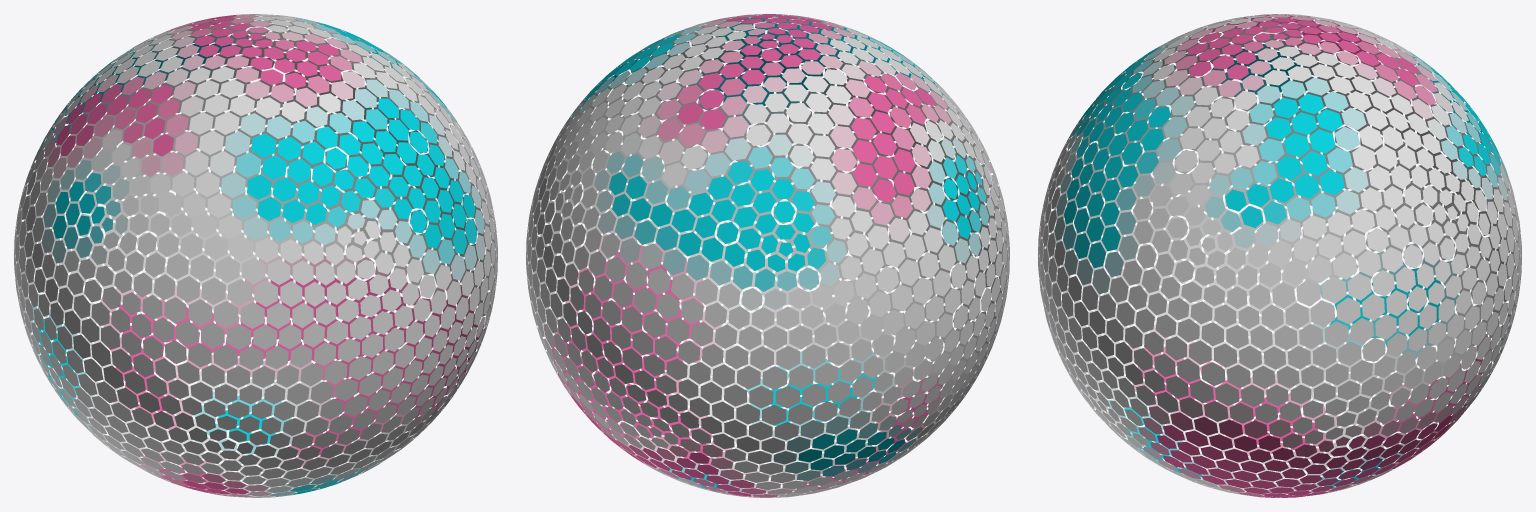
Rendered from mag_ice.fbx.
3 views of the same model, side by side, from view 1: azimuth 30°, elevation 25°; view 2: azimuth 150°, elevation 25°; view 3: azimuth 270°, elevation 25° (orthographic).
Visible parts, largest first — view 1: magneto_ice; view 2: magneto_ice; view 3: magneto_ice.
Boxes of the visible parts, x1,y1,x2,y2 form: magneto_ice: (14, 14, 497, 497); magneto_ice: (526, 14, 1009, 497); magneto_ice: (1038, 14, 1521, 497).
Size of the model in its own units: 218 by 218 by 218.
